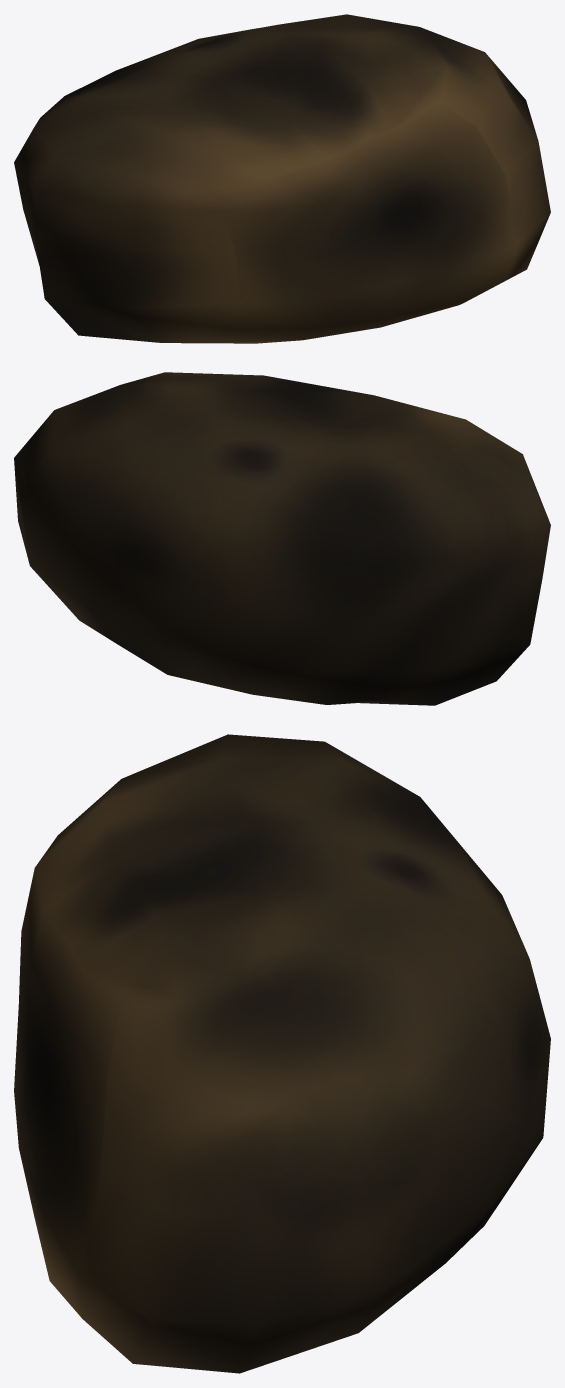
File: Meteorito2.fbx
The picture shows the model from 3 angles, top to bottom: view 1: azimuth 30°, elevation 25°; view 2: azimuth 150°, elevation 25°; view 3: azimuth 270°, elevation 25°; orthographic projection. The views are drawn at different scales.
Parts seen in each view (by area): view 1: pCube1; view 2: pCube1; view 3: pCube1.
Part boxes in pixels (left/top/right/bottom): pCube1: left=14, top=14, right=550, bottom=343; pCube1: left=14, top=372, right=550, bottom=705; pCube1: left=14, top=734, right=550, bottom=1373.
Size of the model in its own units: 2.37 by 1.1 by 1.41.
1 material, 1 textured.
